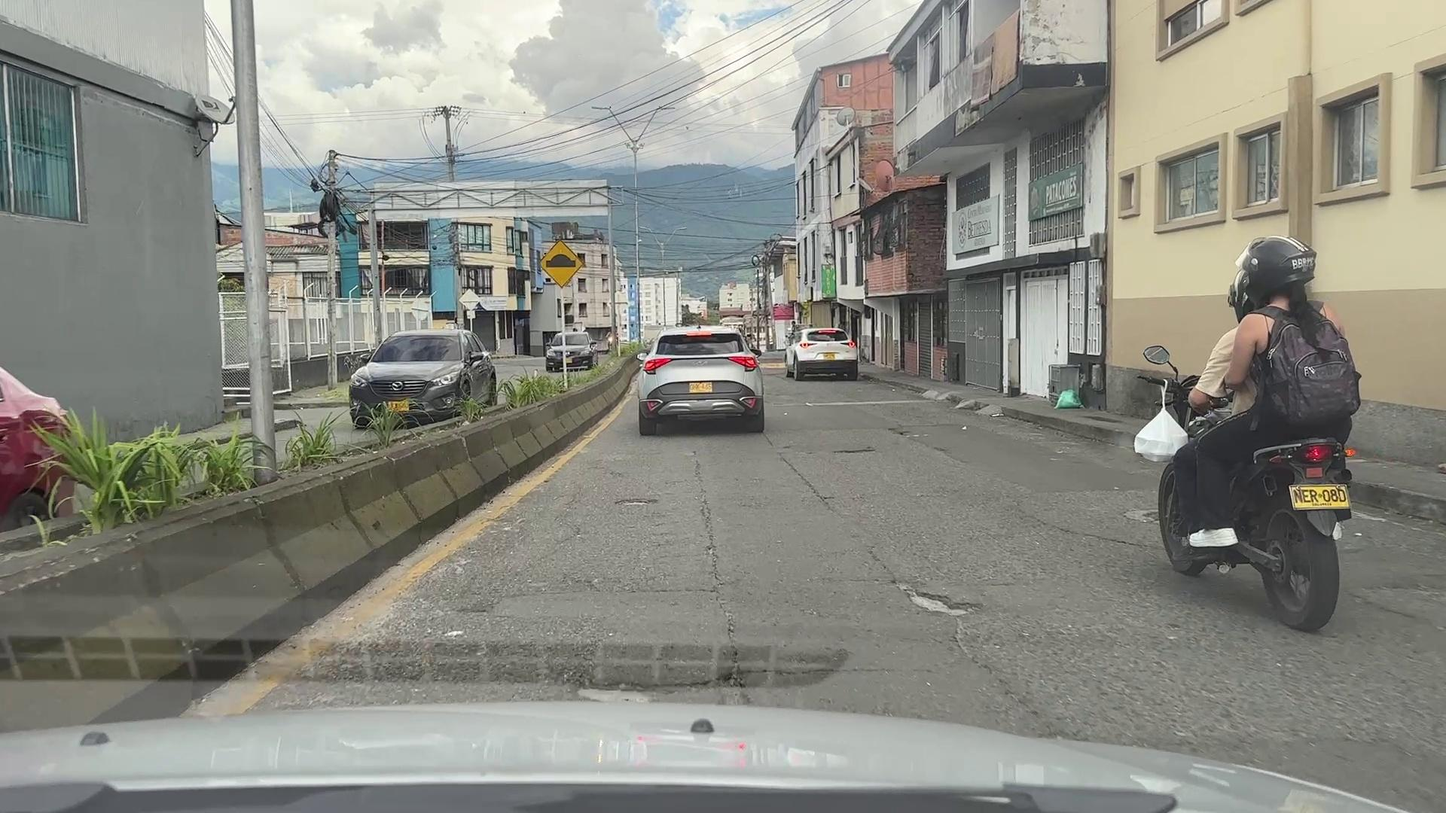bache: (897, 584, 975, 617), (618, 501, 656, 506), (834, 449, 875, 453)
grieta: (588, 585, 796, 707), (693, 460, 723, 586)
